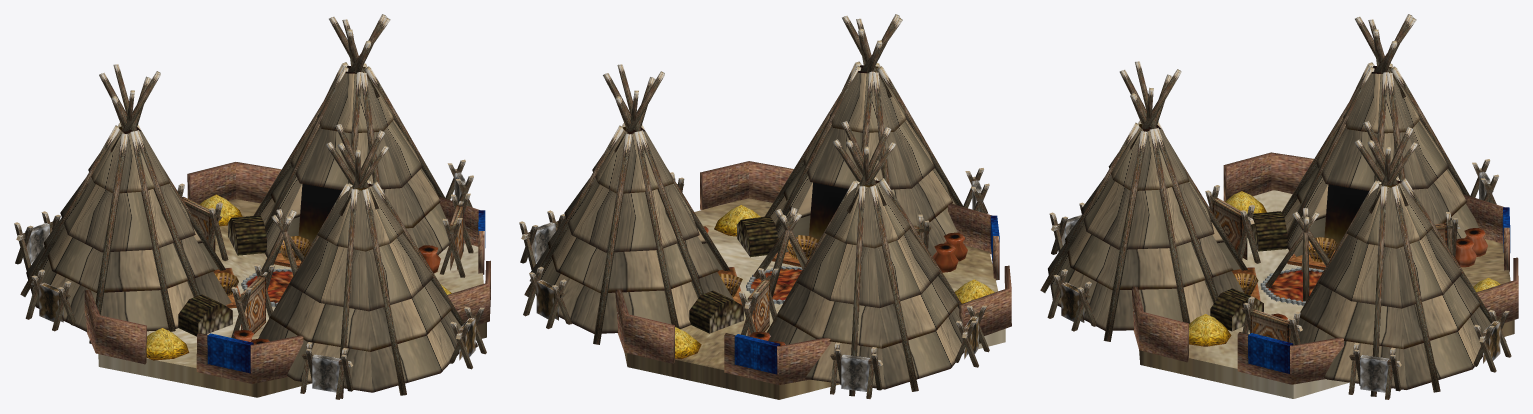
Rendered from anishinaabe.dae.
3 renders of one model, left to right at view 1: azimuth 30°, elevation 25°; view 2: azimuth 150°, elevation 25°; view 3: azimuth 270°, elevation 25°, orthographic.
Parts seen in each view (by area): view 1: anishinaabe; view 2: anishinaabe; view 3: anishinaabe.
Boxes of the visible parts, x1=… form: anishinaabe: x1=14, y1=14, x2=490, y2=399; anishinaabe: x1=519, y1=14, x2=1011, y2=399; anishinaabe: x1=1040, y1=14, x2=1518, y2=399.
Size of the model in its own units: 24.11 by 22.1 by 11.81.
